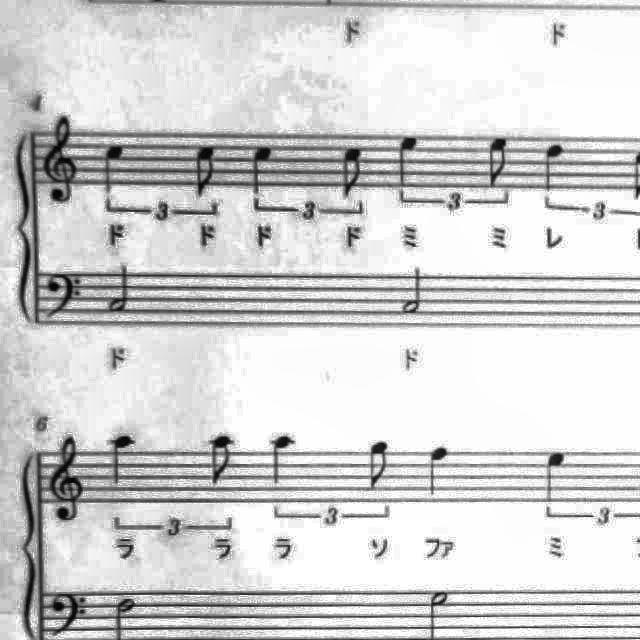Bass-clef: (42, 264, 90, 324)
Eighth-note: (187, 138, 225, 206), (361, 432, 399, 496), (202, 430, 240, 494), (480, 130, 516, 194), (334, 140, 370, 202)
Half-note: (397, 261, 435, 319), (102, 258, 138, 318)
Quarter-note: (262, 426, 302, 490), (105, 426, 142, 492), (538, 445, 574, 511), (95, 136, 131, 200), (388, 130, 424, 194), (244, 139, 280, 201), (536, 137, 572, 197), (424, 438, 456, 502)
Treble-clef: (39, 108, 87, 208), (46, 428, 90, 526)
